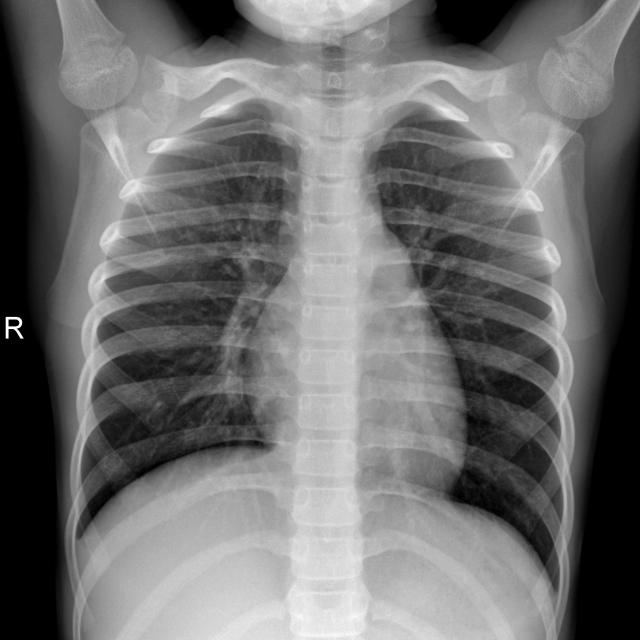no-pneumonia: (81, 103, 301, 531), (371, 111, 565, 588)
